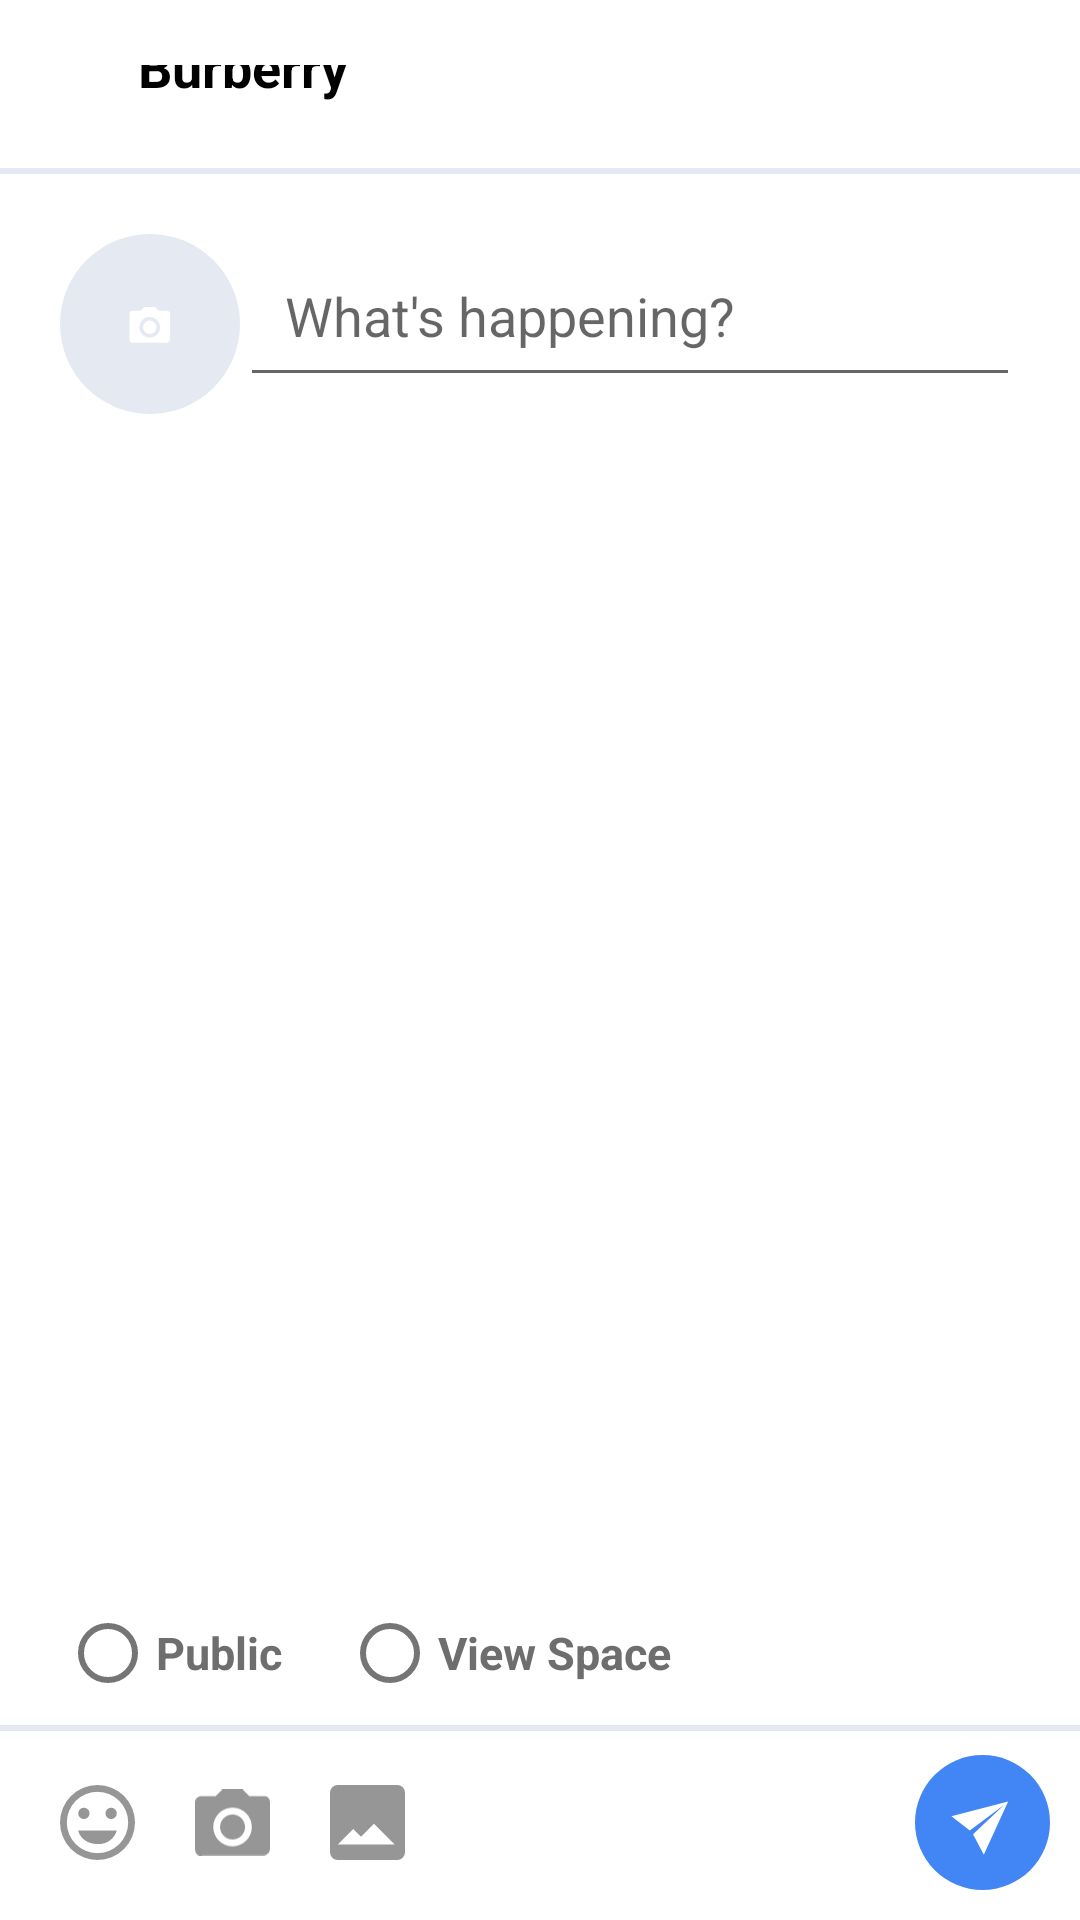

Screen size 1080 × 1920. Icon name, then its center in pixels as (x,y):
chat camera: (232,1822)
chat pic: (367,1822)
chat smile: (97,1822)
send: (982,1822)
